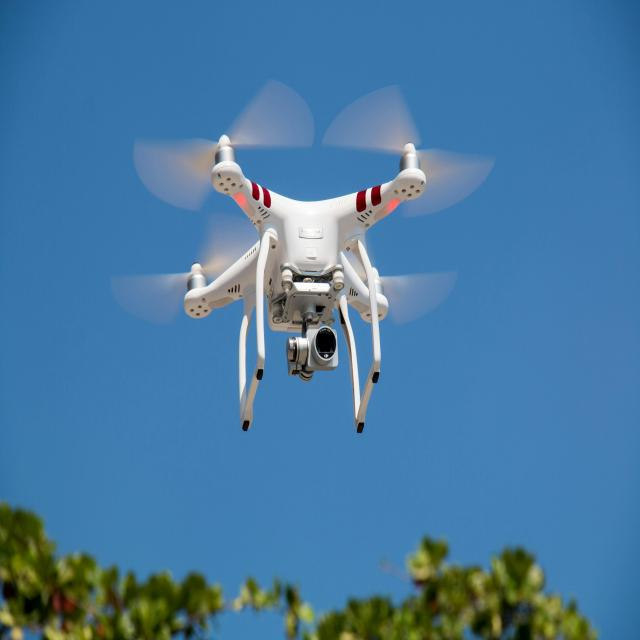drone: (133, 101, 456, 451)
